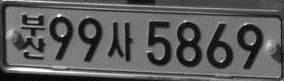5: (147, 20, 172, 66)
6: (206, 22, 234, 69)
8: (175, 20, 202, 67)
9: (236, 23, 263, 68), (77, 16, 103, 62), (48, 16, 74, 61)
부산_V: (21, 13, 46, 59)
사: (108, 21, 133, 61)
